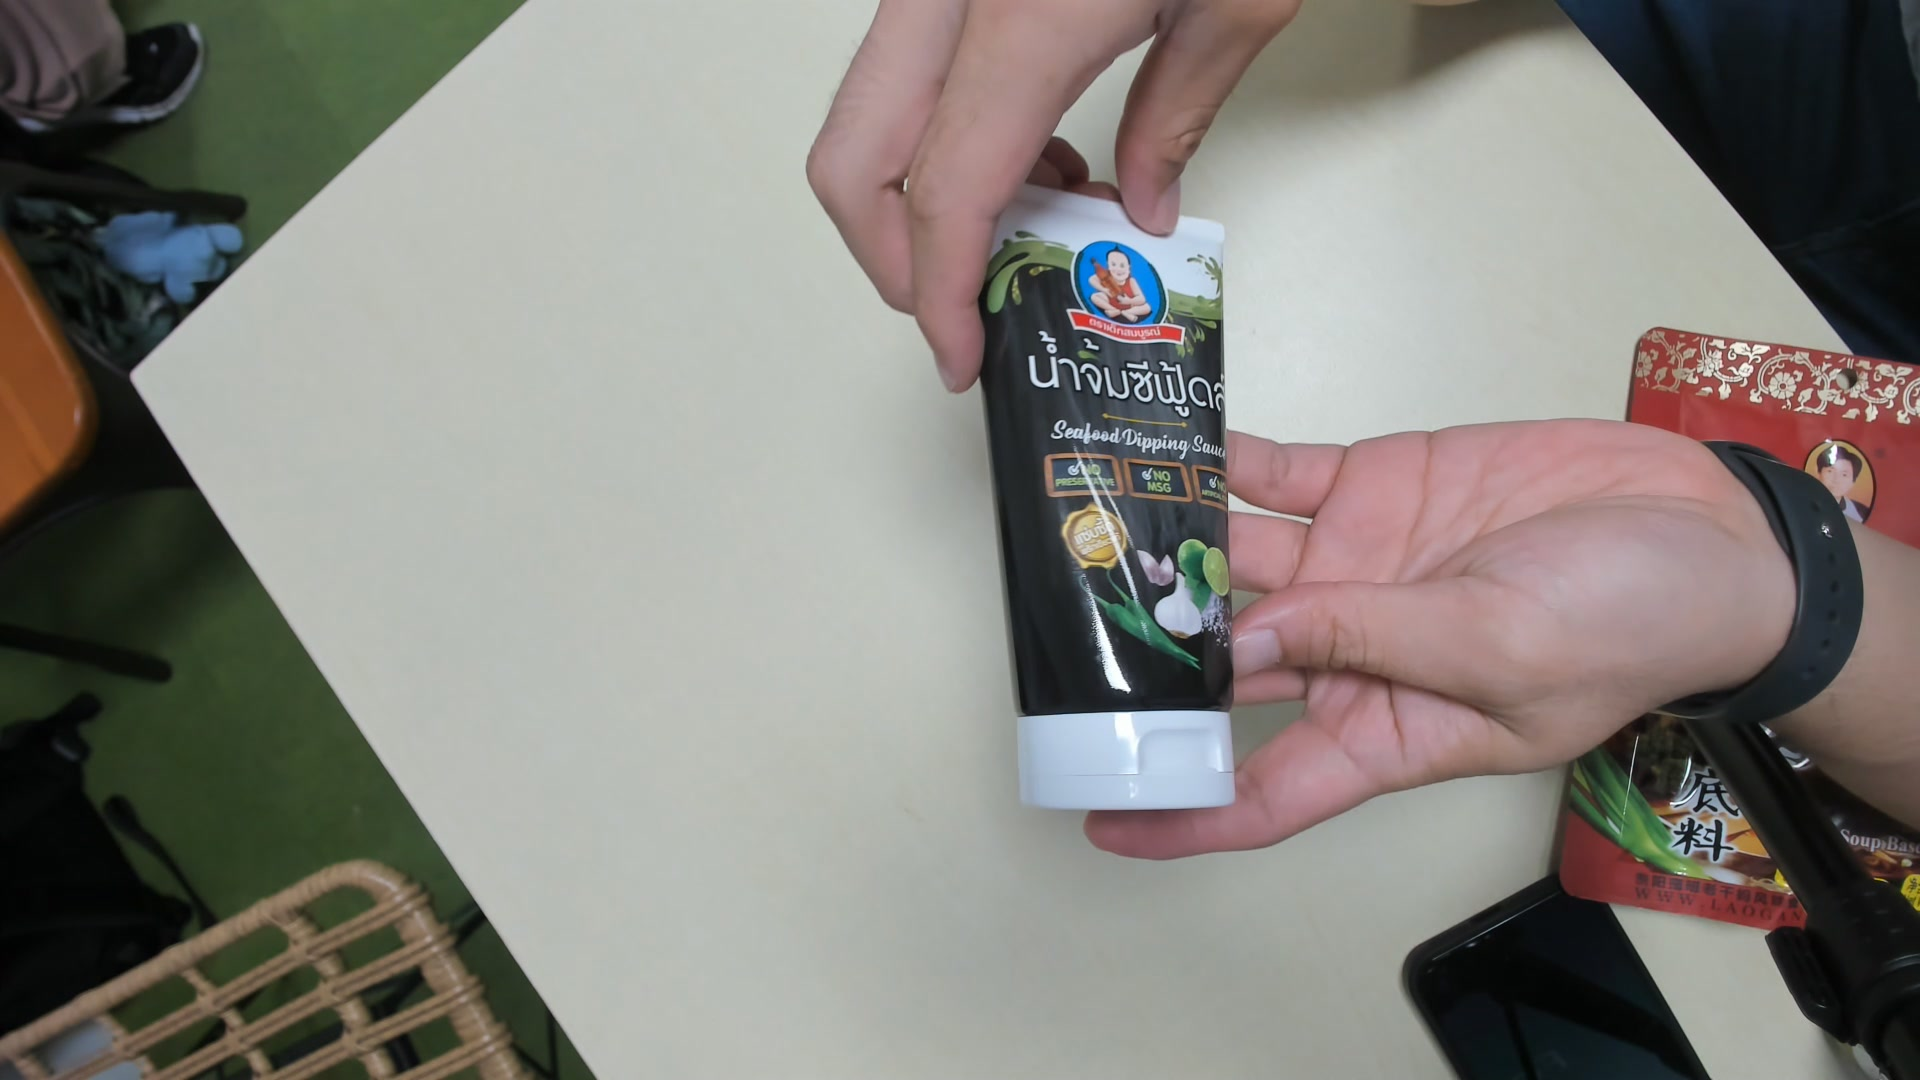OtherSauceDressing_100-199g_NonHalal_NonHealthy: (971, 171, 1242, 814)
